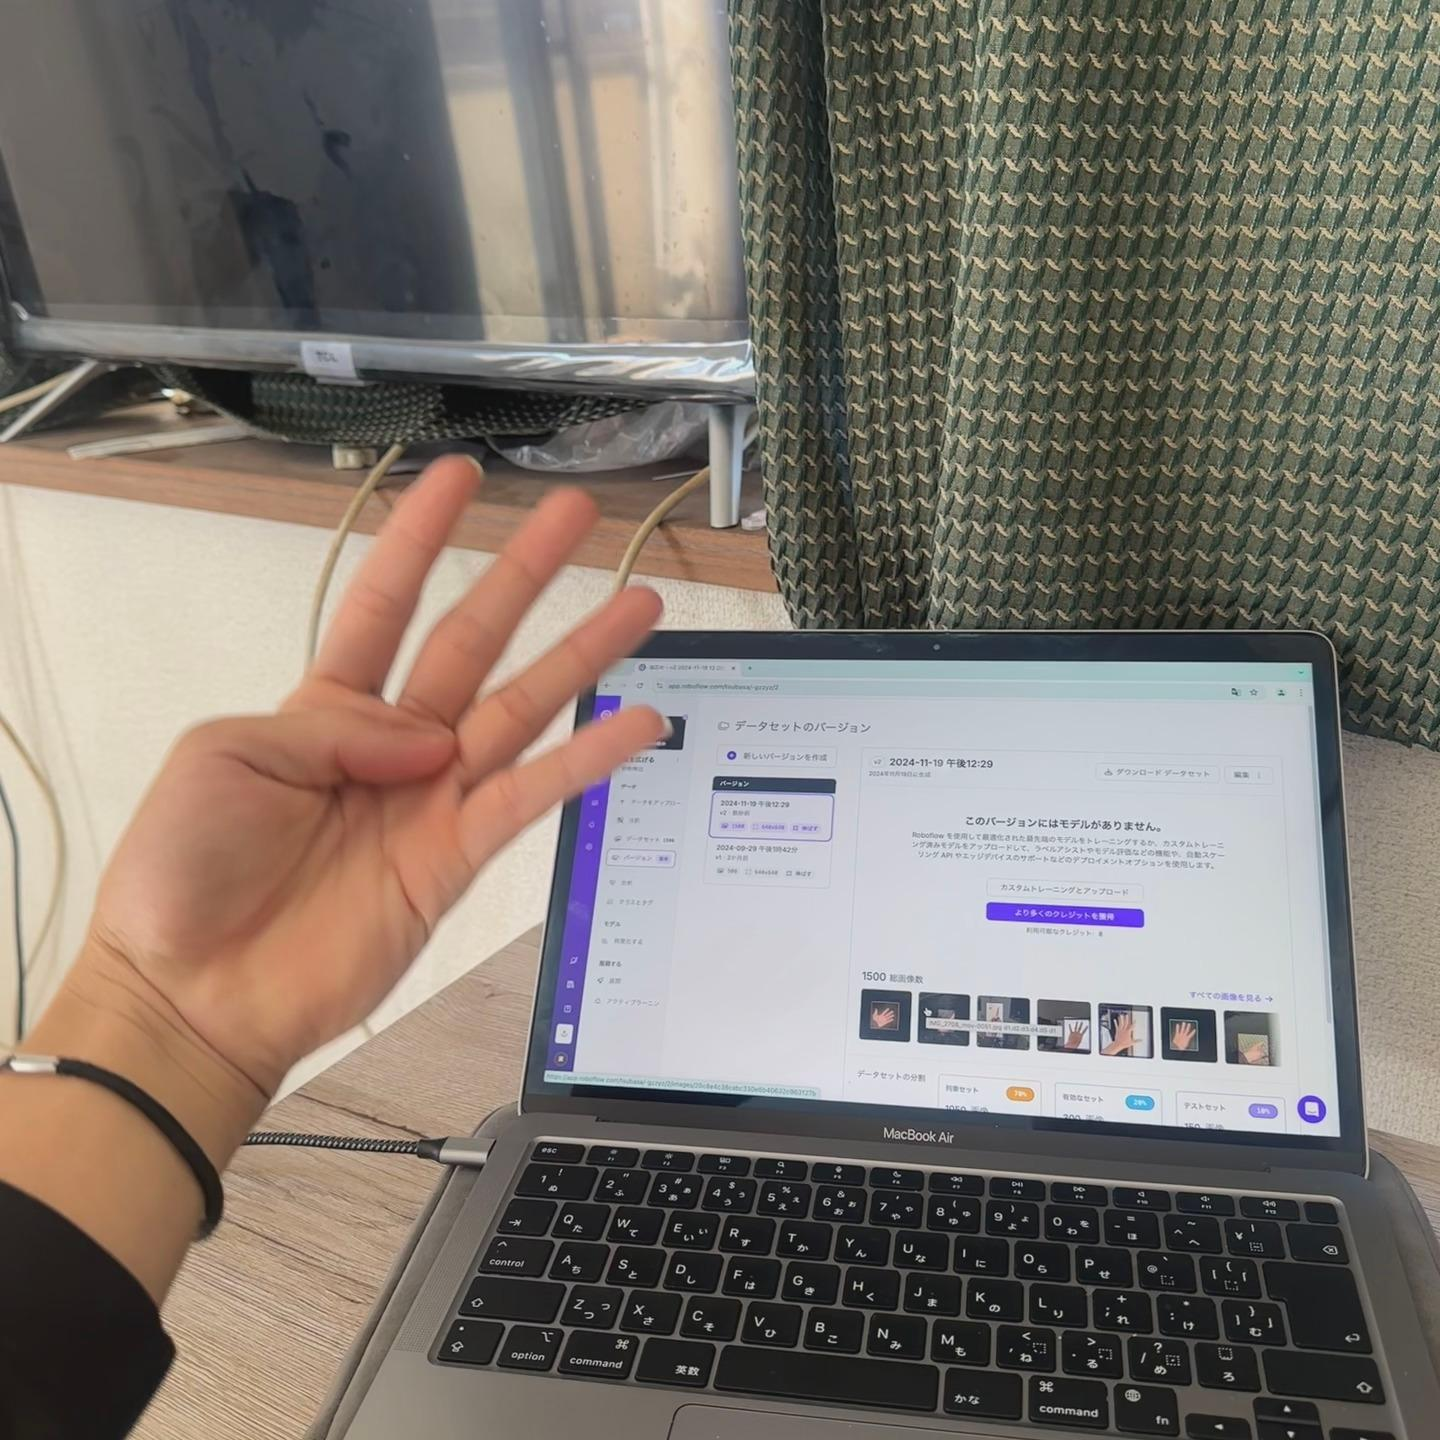without_gloves: (127, 394, 688, 1150)
